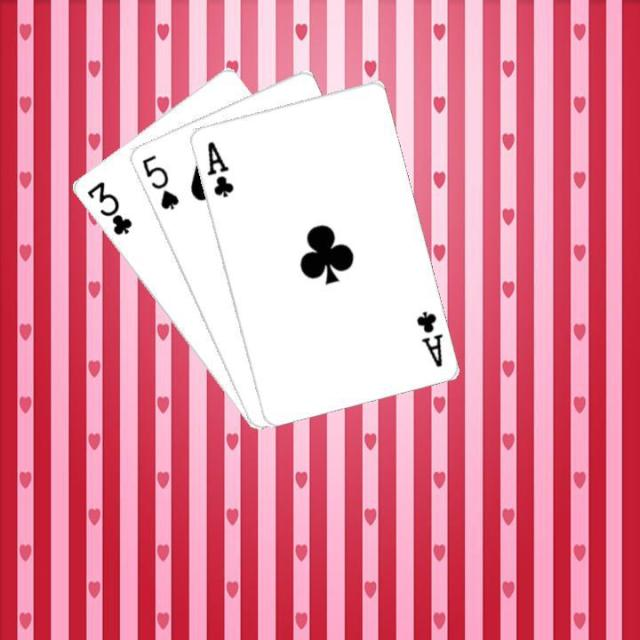3C: (82, 177, 133, 237)
5S: (137, 151, 180, 212)
AC: (202, 137, 236, 199), (412, 307, 444, 369)
